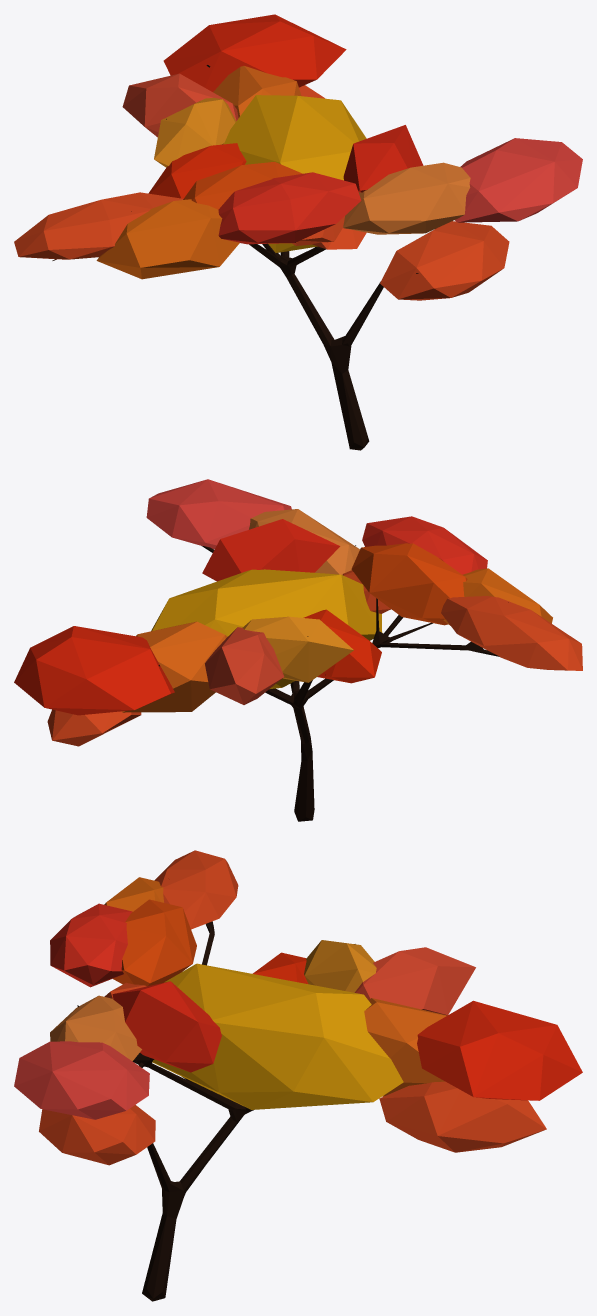
Rendered from boom.obj.
3 views of the same model, one above another, from view 1: azimuth 30°, elevation 25°; view 2: azimuth 150°, elevation 25°; view 3: azimuth 270°, elevation 25° (orthographic). The views are drawn at different scales.
Visible parts, largest first — view 1: Icosphere.021, Icosphere.013, Icosphere.023_Icosphere.041, Icosphere.030_Icosphere.038, Icosphere.015_Icosphere.039, Icosphere.019_Icosphere.037, Icosphere.016_Icosphere.040, Icosphere.022, Cube.001_Cube.002, Icosphere.018_Icosphere.043, Icosphere.017, Icosphere.027 (+5 smaller); view 2: Icosphere.013, Icosphere.021, Icosphere.022, Icosphere.029, Icosphere.023_Icosphere.041, Icosphere.027, Icosphere.014, Icosphere.017, Icosphere.018_Icosphere.043, Cube.001_Cube.002, Icosphere.030_Icosphere.038, Icosphere.020 (+3 smaller); view 3: Icosphere.021, Icosphere.013, Icosphere.023_Icosphere.041, Icosphere.035_Icosphere.036, Icosphere.027, Cube.001_Cube.002, Icosphere.017, Icosphere.029, Icosphere.030_Icosphere.038, Icosphere.015_Icosphere.039, Icosphere.022, Icosphere.014 (+4 smaller).
Part boxes in pixels (<box>): Icosphere.021: <box>223,95,366,252</box>; Icosphere.013: <box>163,14,346,91</box>; Icosphere.023_Icosphere.041: <box>455,138,582,222</box>; Icosphere.030_Icosphere.038: <box>218,172,361,244</box>; Icosphere.015_Icosphere.039: <box>380,221,509,300</box>; Icosphere.019_Icosphere.037: <box>96,199,239,279</box>; Icosphere.016_Icosphere.040: <box>343,162,470,234</box>; Icosphere.022: <box>14,192,182,259</box>; Cube.001_Cube.002: <box>52,65,418,450</box>; Icosphere.018_Icosphere.043: <box>154,97,236,167</box>; Icosphere.017: <box>122,73,238,137</box>; Icosphere.027: <box>343,125,423,192</box>; Icosphere.013: <box>14,626,174,715</box>; Icosphere.021: <box>151,569,382,689</box>; Icosphere.022: <box>441,596,582,670</box>; Icosphere.029: <box>351,543,467,625</box>; Icosphere.023_Icosphere.041: <box>146,479,291,549</box>; Icosphere.027: <box>202,519,340,581</box>; Icosphere.014: <box>121,621,227,712</box>; Icosphere.017: <box>205,627,284,704</box>; Icosphere.018_Icosphere.043: <box>242,616,353,682</box>; Cube.001_Cube.002: <box>158,545,508,821</box>; Icosphere.030_Icosphere.038: <box>362,516,487,574</box>; Icosphere.020: <box>303,609,381,683</box>; Icosphere.021: <box>152,963,403,1109</box>; Icosphere.013: <box>417,1000,582,1100</box>; Icosphere.023_Icosphere.041: <box>14,1041,149,1119</box>; Icosphere.035_Icosphere.036: <box>379,1081,546,1152</box>; Icosphere.027: <box>112,981,221,1072</box>; Cube.001_Cube.002: <box>77,921,355,1301</box>; Icosphere.017: <box>354,947,475,1015</box>; Icosphere.029: <box>113,899,196,986</box>; Icosphere.030_Icosphere.038: <box>50,903,132,987</box>; Icosphere.015_Icosphere.039: <box>39,1105,155,1165</box>; Icosphere.022: <box>154,850,238,929</box>; Icosphere.014: <box>364,998,447,1096</box>.
Bounding box in the file's own units: 11.3 × 6.64 × 10.33.
